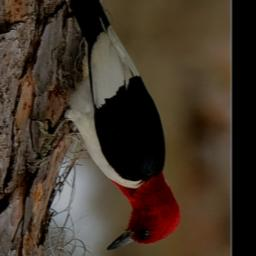Woodpecker: (28, 0, 184, 256)
